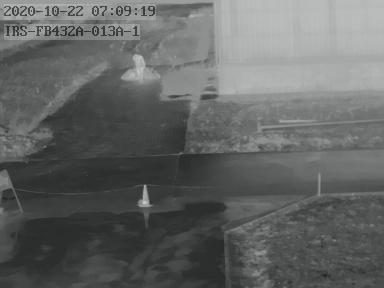person: (132, 53, 146, 84)
